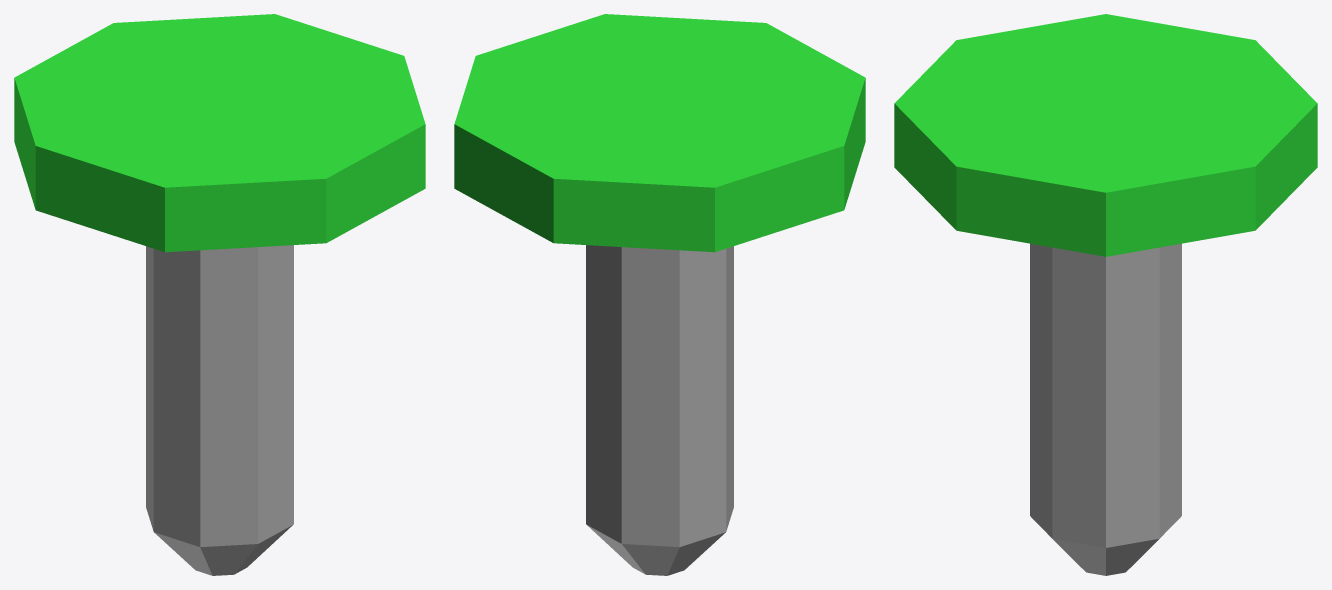
Rendered from screw_green.gltf.
The picture shows the model from 3 angles, left to right: view 1: azimuth 30°, elevation 25°; view 2: azimuth 150°, elevation 25°; view 3: azimuth 270°, elevation 25°; orthographic projection.
Parts seen in each view (by area): view 1: Cylinder, Cylinder.001; view 2: Cylinder, Cylinder.001; view 3: Cylinder, Cylinder.001.
Part boxes in pixels (<box>): Cylinder: <box>14,14,425,252</box>; Cylinder.001: <box>146,245,293,575</box>; Cylinder: <box>454,14,865,252</box>; Cylinder.001: <box>586,245,733,575</box>; Cylinder: <box>894,14,1317,256</box>; Cylinder.001: <box>1030,243,1181,575</box>.
Bounding box in the file's own units: 1.46 × 1.75 × 1.46.
